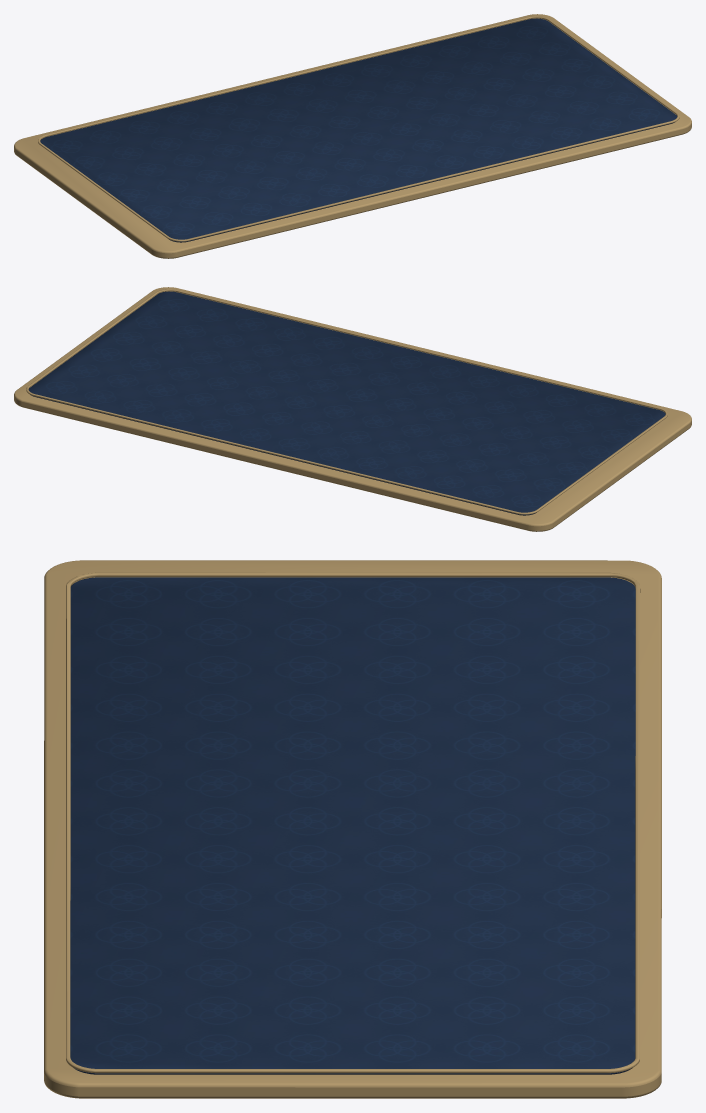
File: supply.glb
3 renders of one model, top to bottom at view 1: azimuth 30°, elevation 25°; view 2: azimuth 150°, elevation 25°; view 3: azimuth 270°, elevation 25°, orthographic. The views are drawn at different scales.
Parts seen in each view (by area): view 1: lod0_03_NavyJacquard, lod0_04_ChampagneBrass; view 2: lod0_03_NavyJacquard, lod0_04_ChampagneBrass; view 3: lod0_03_NavyJacquard, lod0_04_ChampagneBrass.
Part boxes in pixels (x1=…): lod0_03_NavyJacquard: x1=40, y1=18, x2=677, y2=242; lod0_04_ChampagneBrass: x1=14, y1=14, x2=691, y2=258; lod0_03_NavyJacquard: x1=28, y1=291, x2=665, y2=515; lod0_04_ChampagneBrass: x1=14, y1=287, x2=691, y2=531; lod0_03_NavyJacquard: x1=70, y1=577, x2=635, y2=1074; lod0_04_ChampagneBrass: x1=44, y1=560, x2=661, y2=1098.
Bounding box in the file's own units: 0.37 × 0.007 × 0.184.
2 materials, 1 textured.
